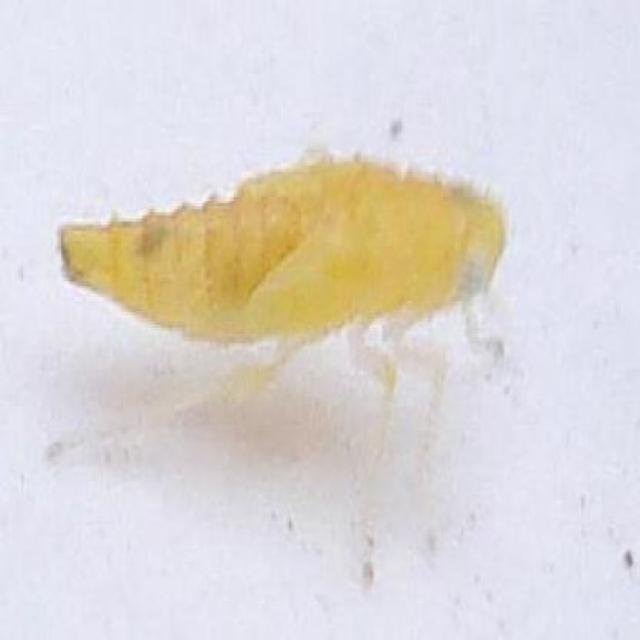green-leafhopper: (44, 149, 506, 529)
